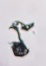microplastic: (7, 20, 36, 58)
